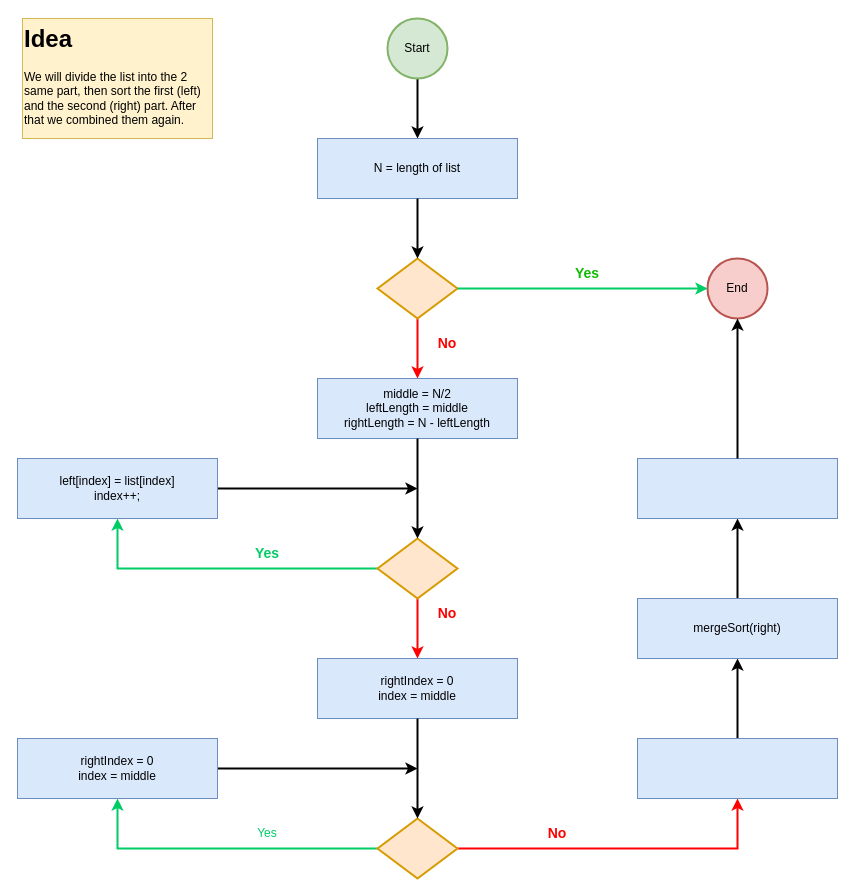
The diagram is 855 pixels wide and 896 high, and some of its shapes have lost their labels. Here are the shapes that lost their labels. From the top down, the centre of each, then its label:
the point at 417,288: N < 2
the point at 737,488: mergeSort(list, left, right)
the point at 417,568: index < middle
the point at 737,768: mergeSort(left)
the point at 417,848: index < N
